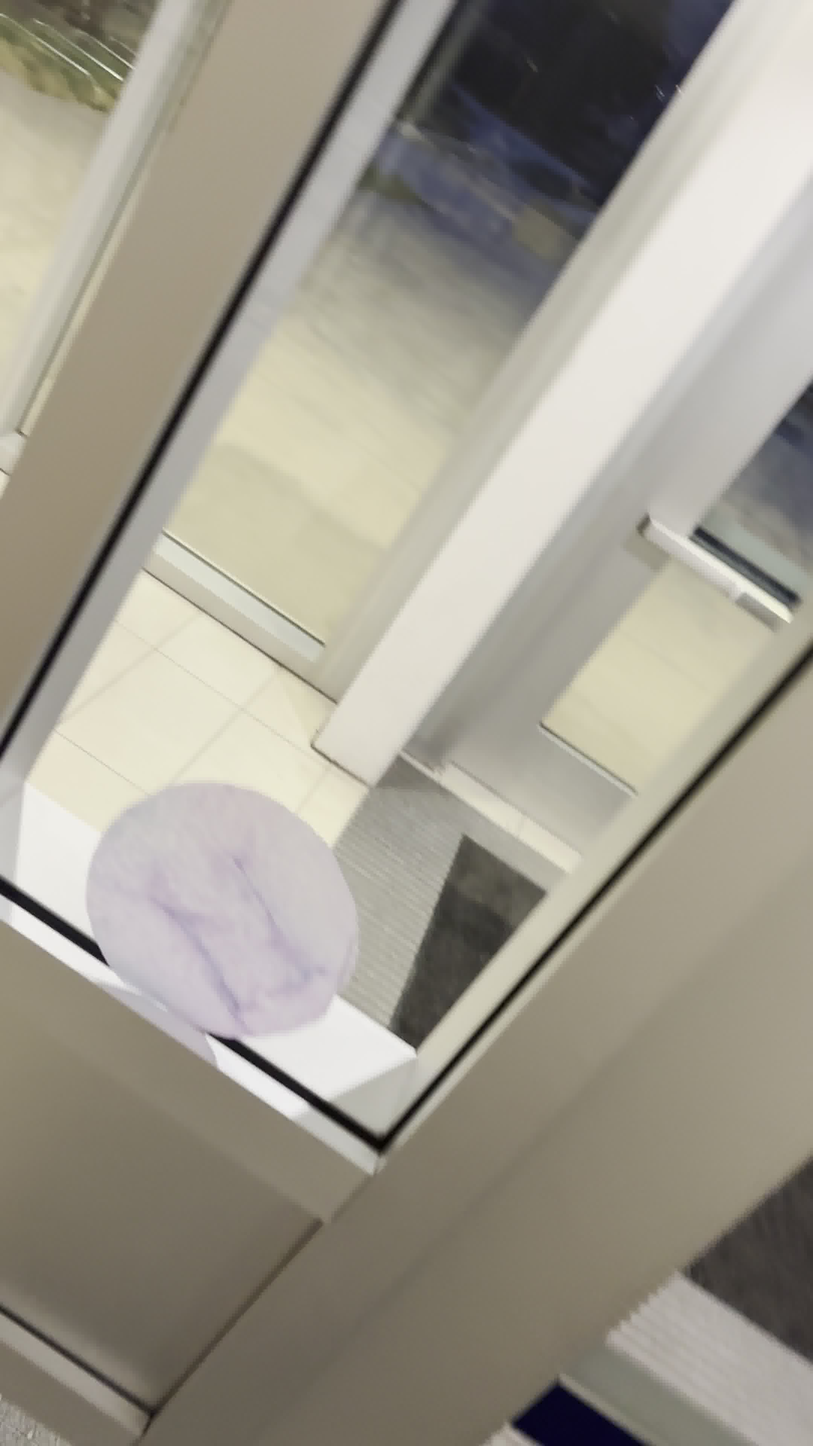Target: (81, 780, 366, 1041)
